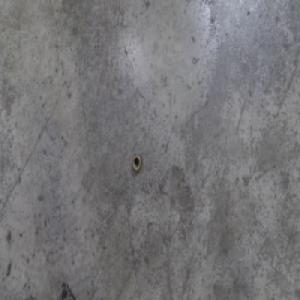Nut: (130, 152, 142, 173)
